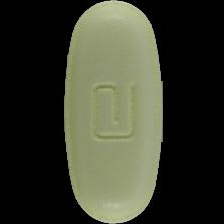68788-7392: (0, 0, 224, 224)
